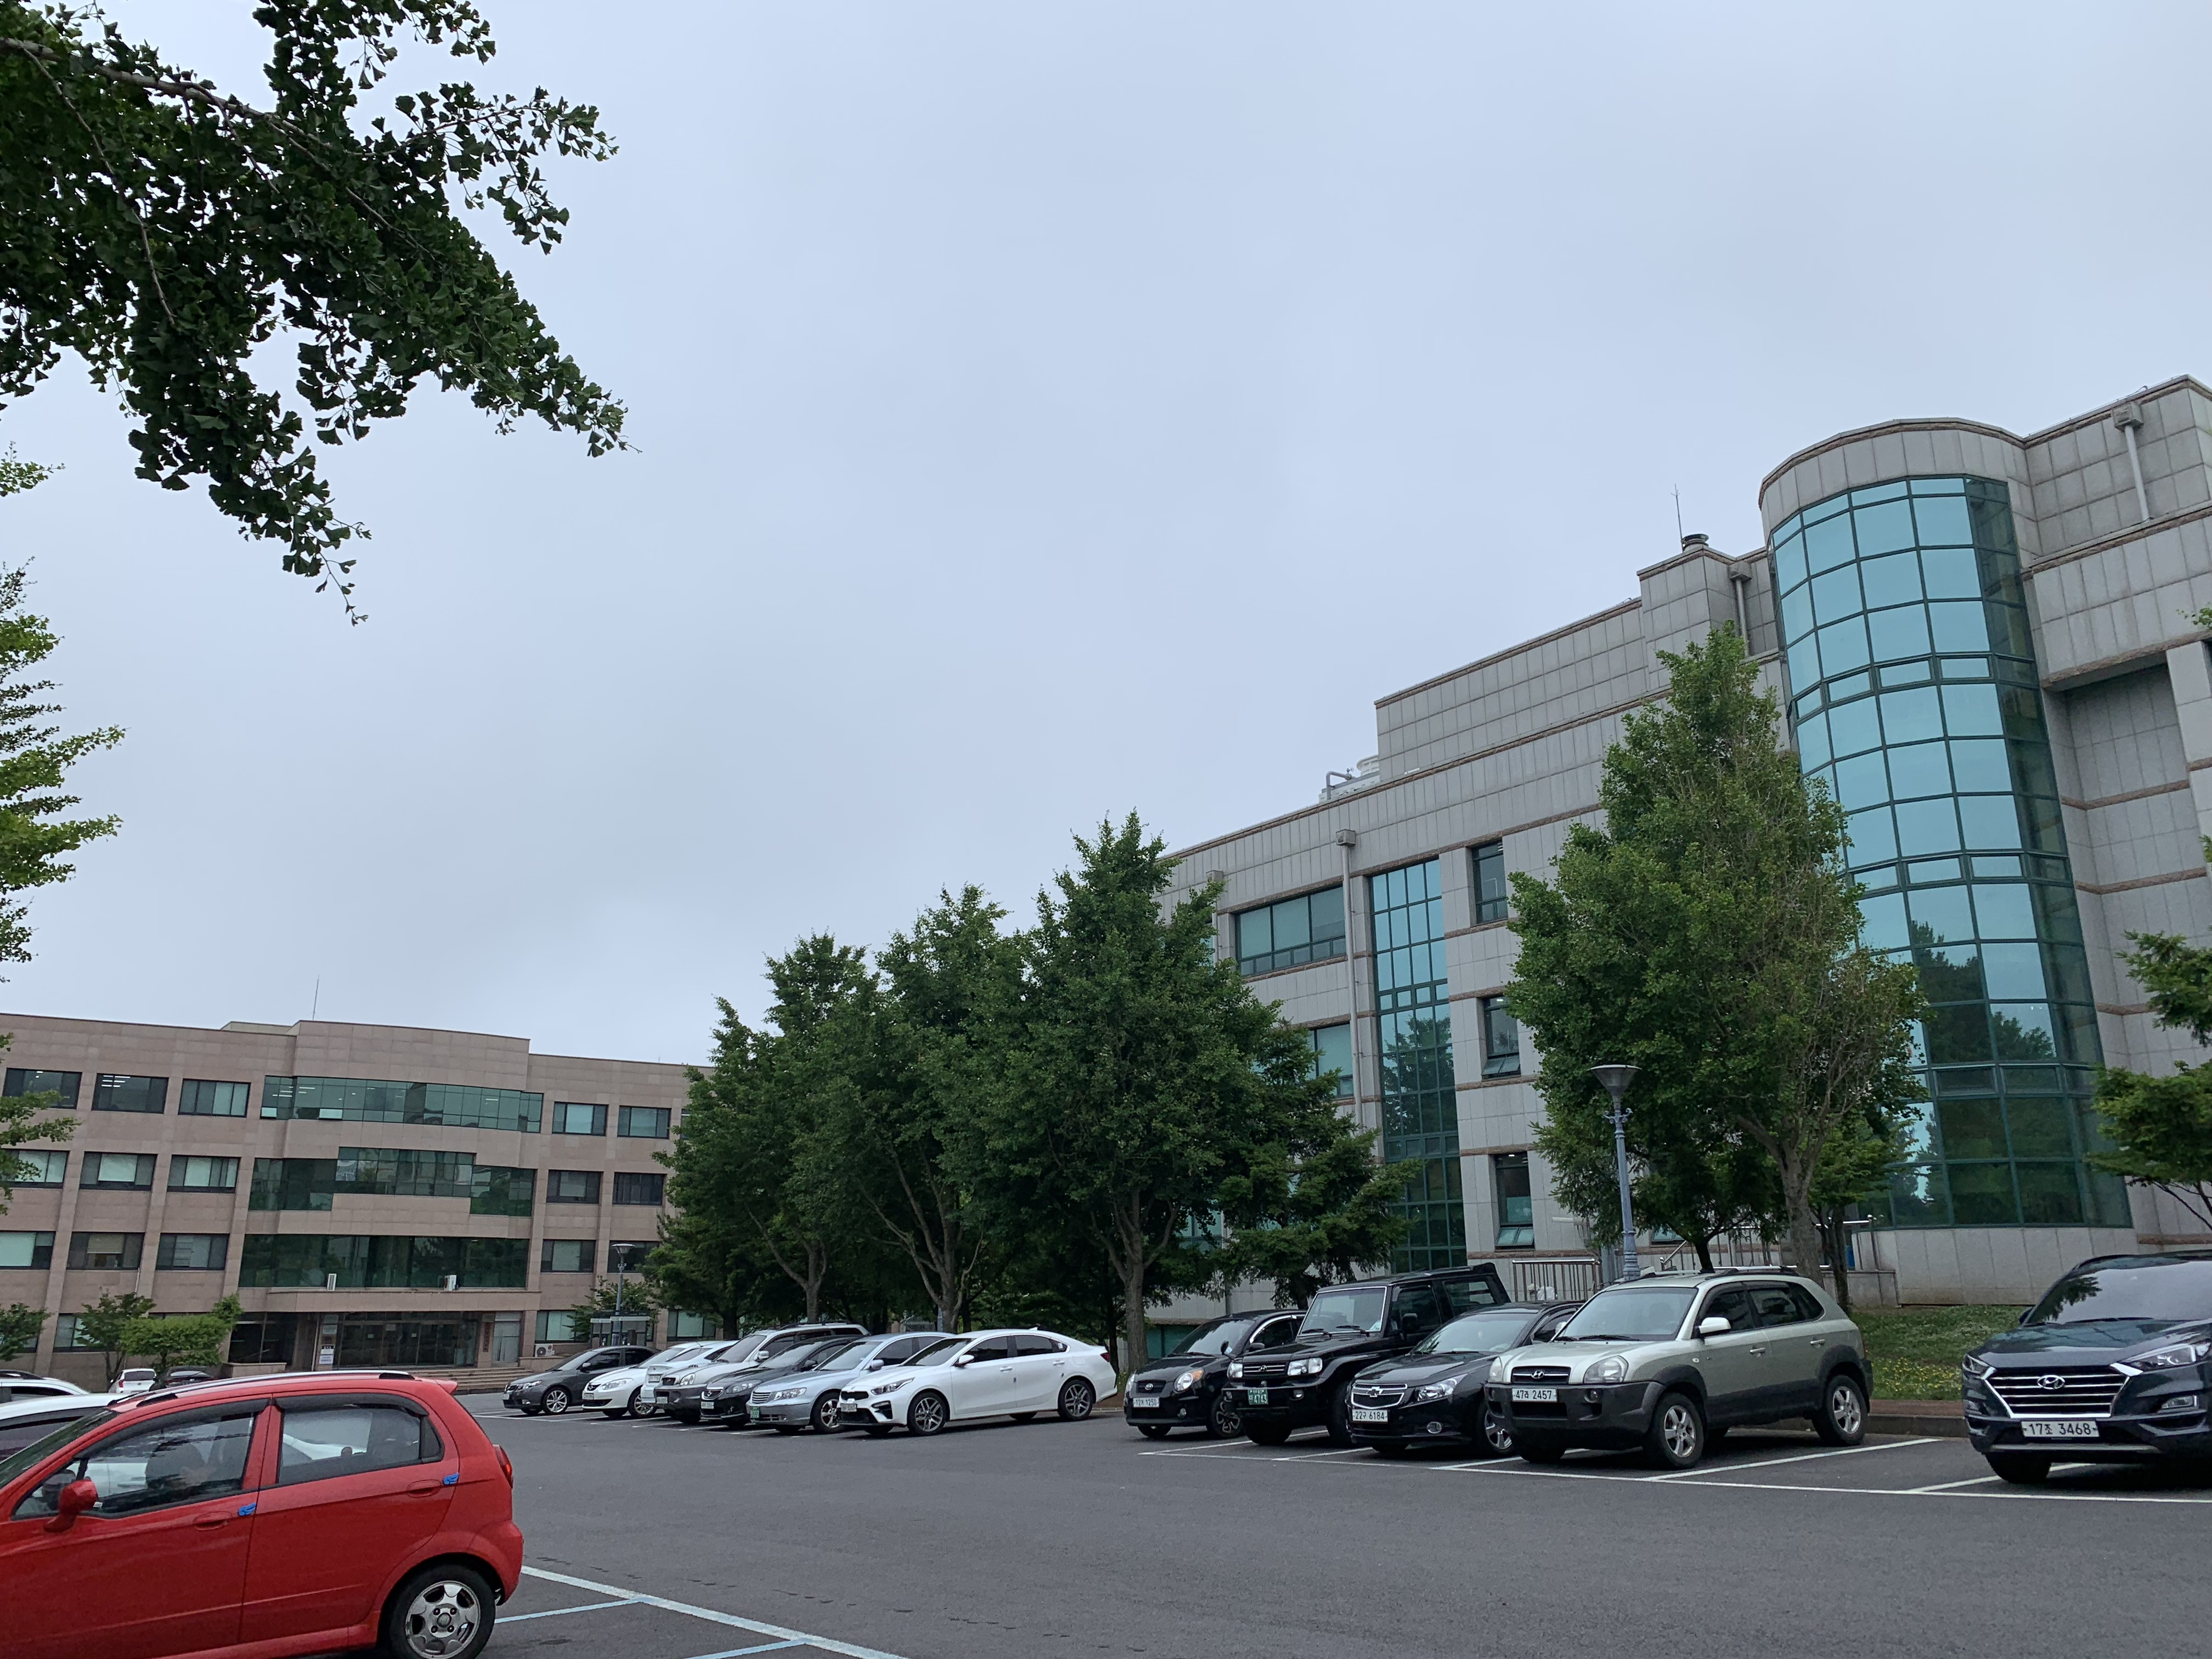Joint Experimental Labs: (5, 1004, 702, 1398)
Second Library: (1116, 399, 2203, 1251)
